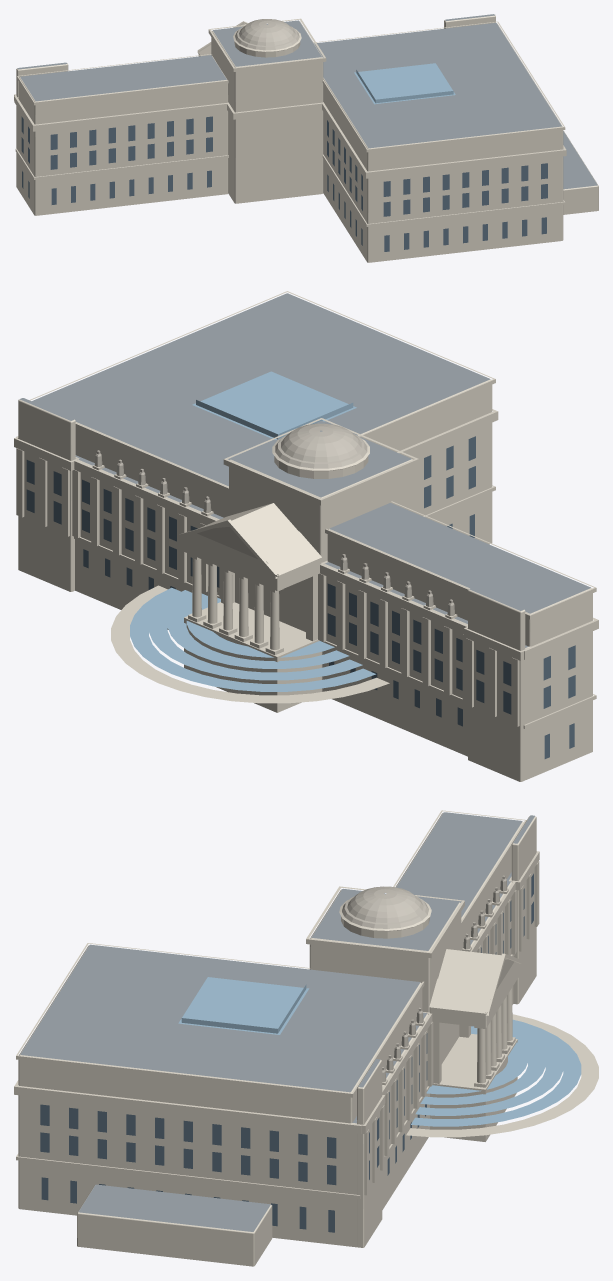
File: detail.glb
3 renders of one model, top to bottom at view 1: azimuth 30°, elevation 25°; view 2: azimuth 150°, elevation 25°; view 3: azimuth 270°, elevation 25°, orthographic. The views are drawn at different scales.
Visible parts, largest first — view 1: brooklyn-museum; view 2: brooklyn-museum; view 3: brooklyn-museum.
Part boxes in pixels (x1,y1,x2,y2): brooklyn-museum: (14,14,598,262); brooklyn-museum: (14,291,598,781); brooklyn-museum: (14,810,598,1266).
Bounding box in the file's own units: 161 × 52 × 131.
